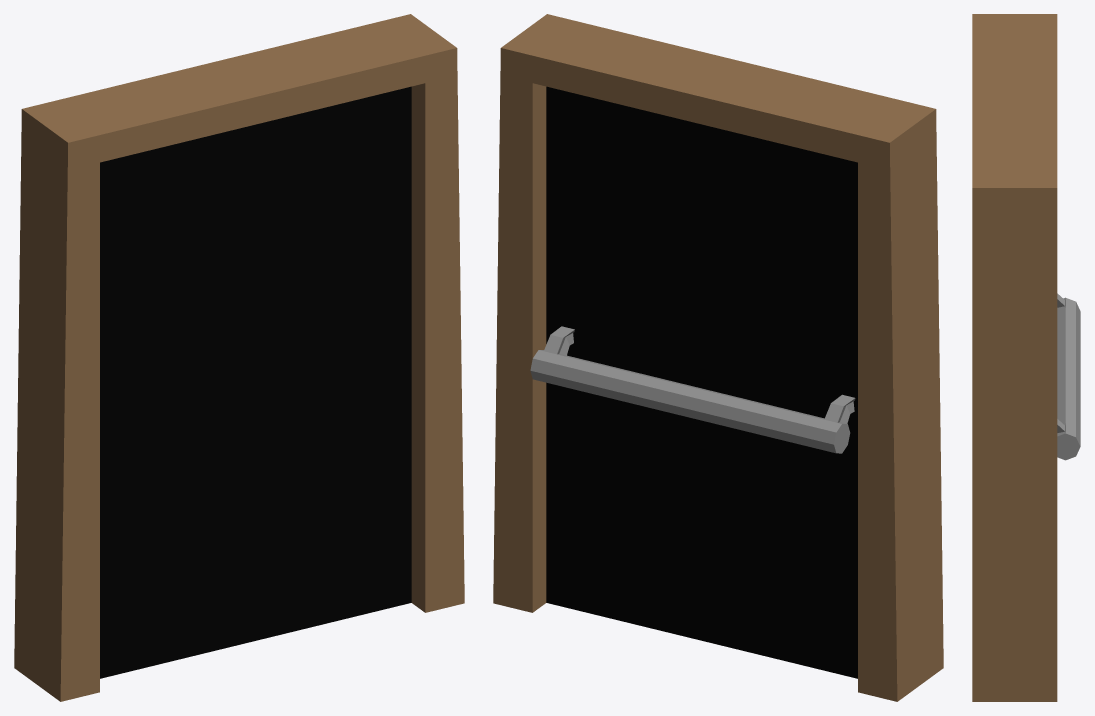
Rendered from JC_Door.fbx.
3 views of the same model, side by side, from view 1: azimuth 30°, elevation 25°; view 2: azimuth 150°, elevation 25°; view 3: azimuth 270°, elevation 25° (orthographic). The views are drawn at different scales.
Visible parts, largest first — view 1: Cube.002; view 2: Cube.002; view 3: Cube.002.
Part boxes in pixels (x1=…): Cube.002: x1=14, y1=14, x2=464, y2=701; Cube.002: x1=493, y1=14, x2=943, y2=701; Cube.002: x1=972, y1=14, x2=1080, y2=701.
Bounding box in the file's own units: 559 × 736 × 141.
